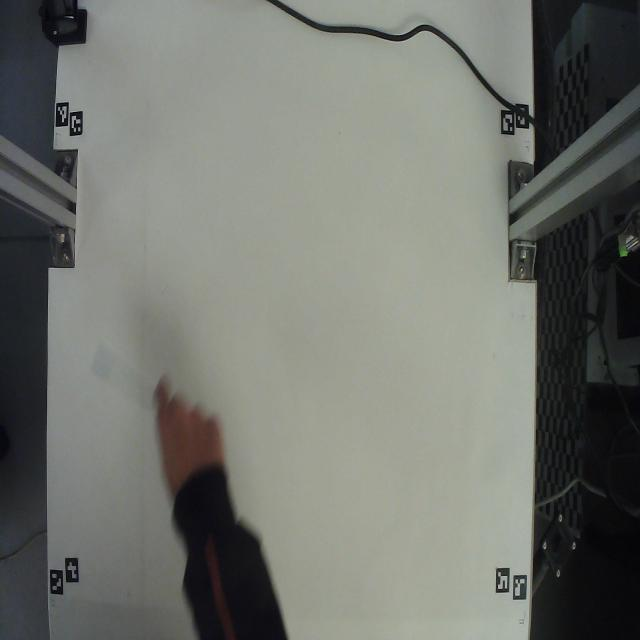NoPres: (78, 328, 173, 439)
